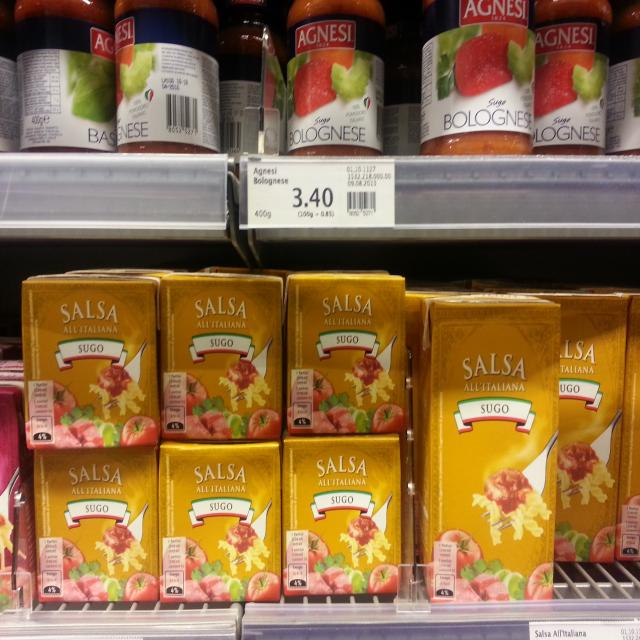Sauce: (418, 298, 554, 603), (501, 293, 621, 561), (23, 275, 163, 451), (157, 436, 285, 604), (159, 271, 286, 436), (281, 270, 409, 430), (28, 453, 160, 603), (282, 436, 405, 595), (422, 0, 536, 159), (10, 0, 118, 157), (115, 0, 219, 159), (284, 0, 381, 157), (535, 0, 615, 156)
